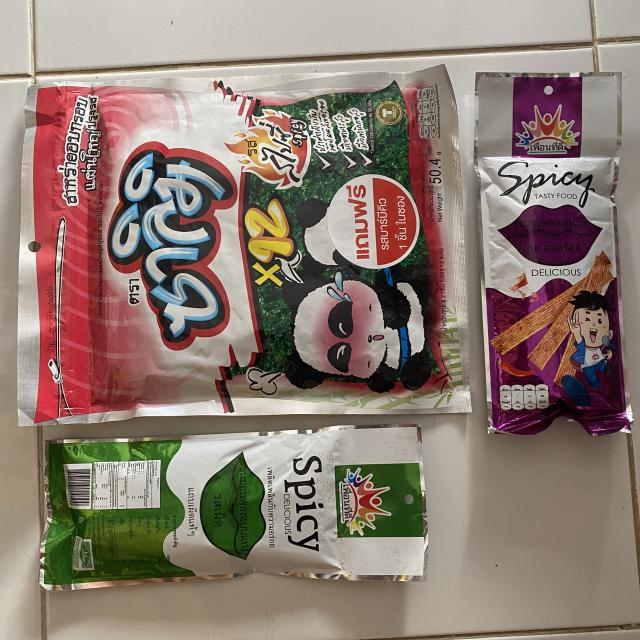plastik: (18, 65, 470, 425), (40, 425, 428, 590), (475, 72, 632, 435)
